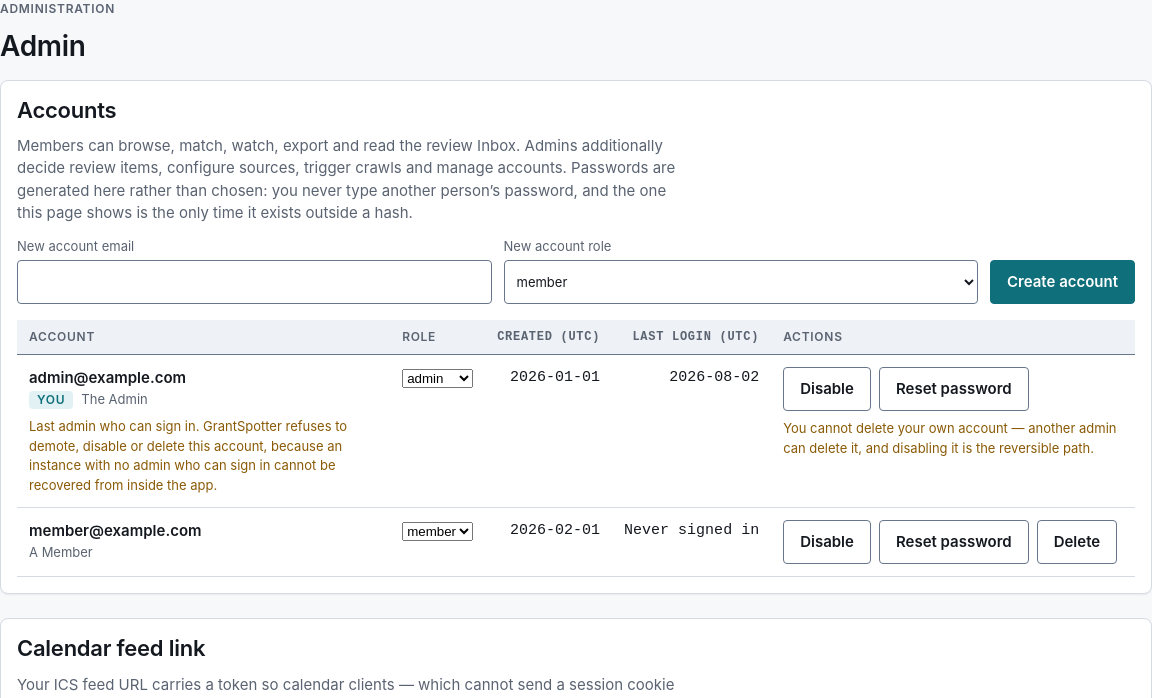
Scenario: Admin console — users › explains a last-admin refusal rather than silently reverting the select
Step 1. Select "member" in the dropdown named "role for admin@example.com" → (438, 379), box [402,370,473,388]
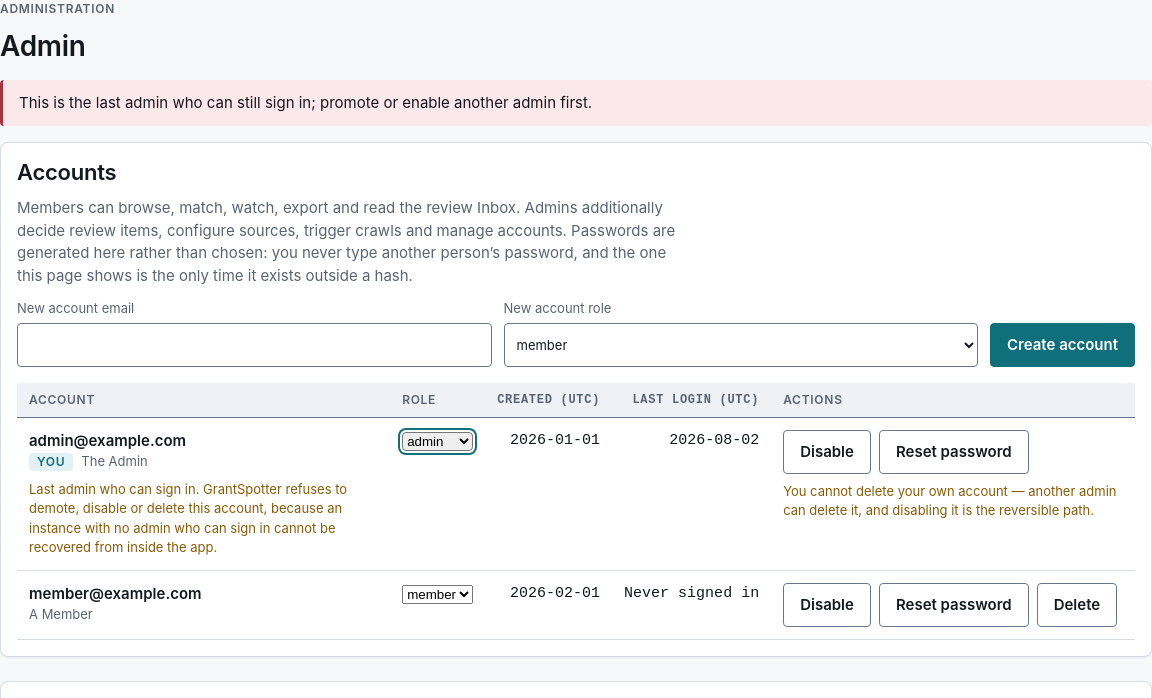
Check: the message shows "last admin", box [19,93,592,112]
